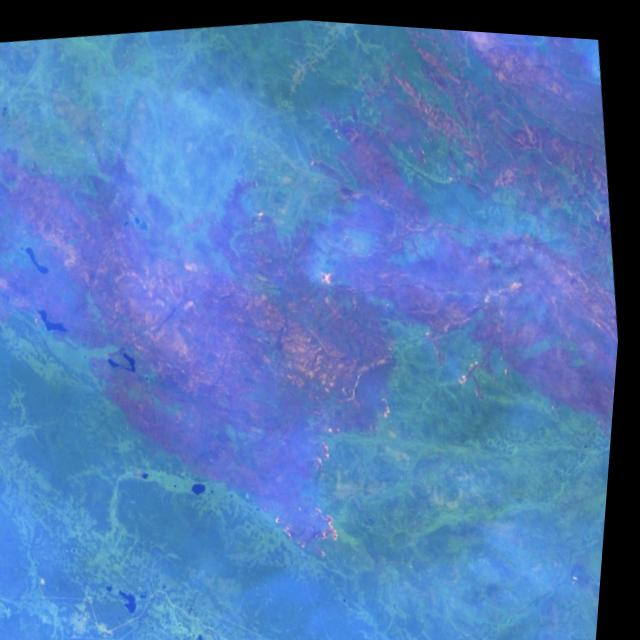fire: (275, 415, 365, 570), (450, 333, 502, 403), (320, 259, 341, 286)
